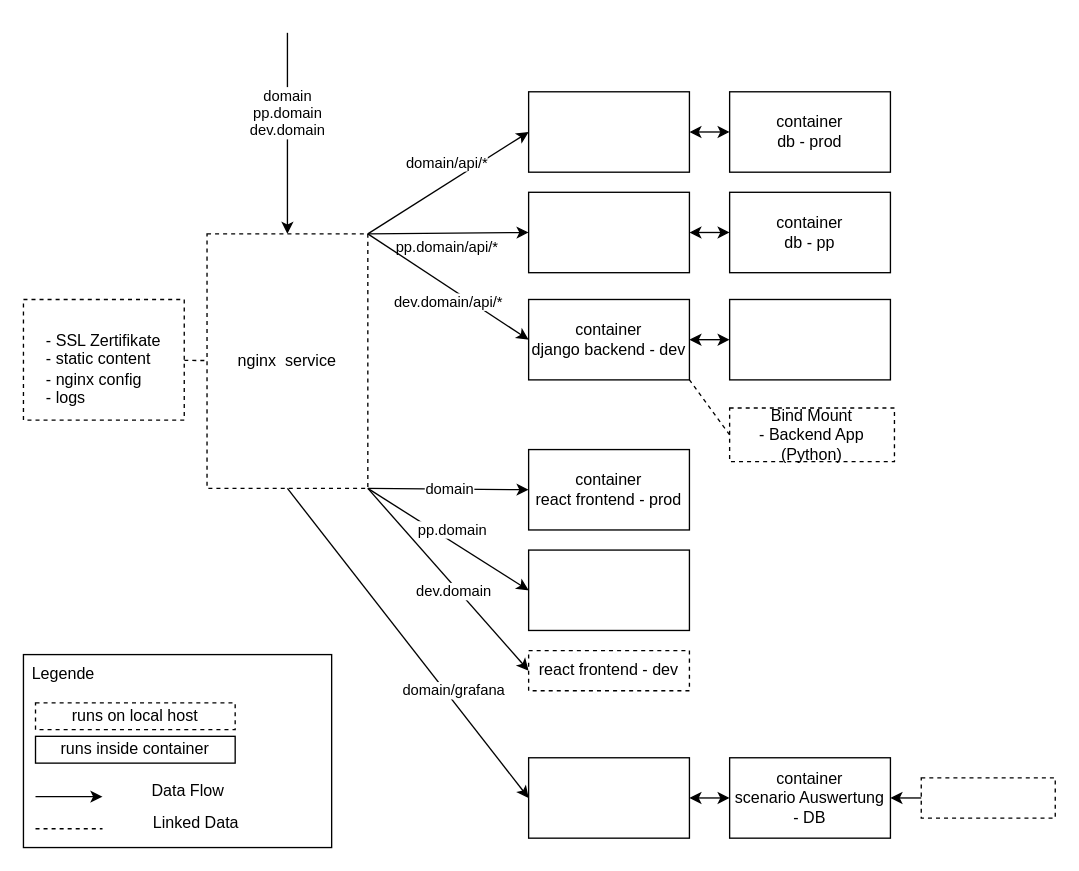
Some shapes in this 1079 by 871 pixel diagram are drawn without their labels. Each missing label, with the centre of its shape:
"container db - dev" belongs at point (809, 339).
"container django backend - pp" belongs at point (608, 232).
"container django backend - prod" belongs at point (608, 131).
"container grafana" belongs at point (608, 797).
"container react frontend - pp" belongs at point (608, 589).
"python scripts - complexity" belongs at point (987, 797).
